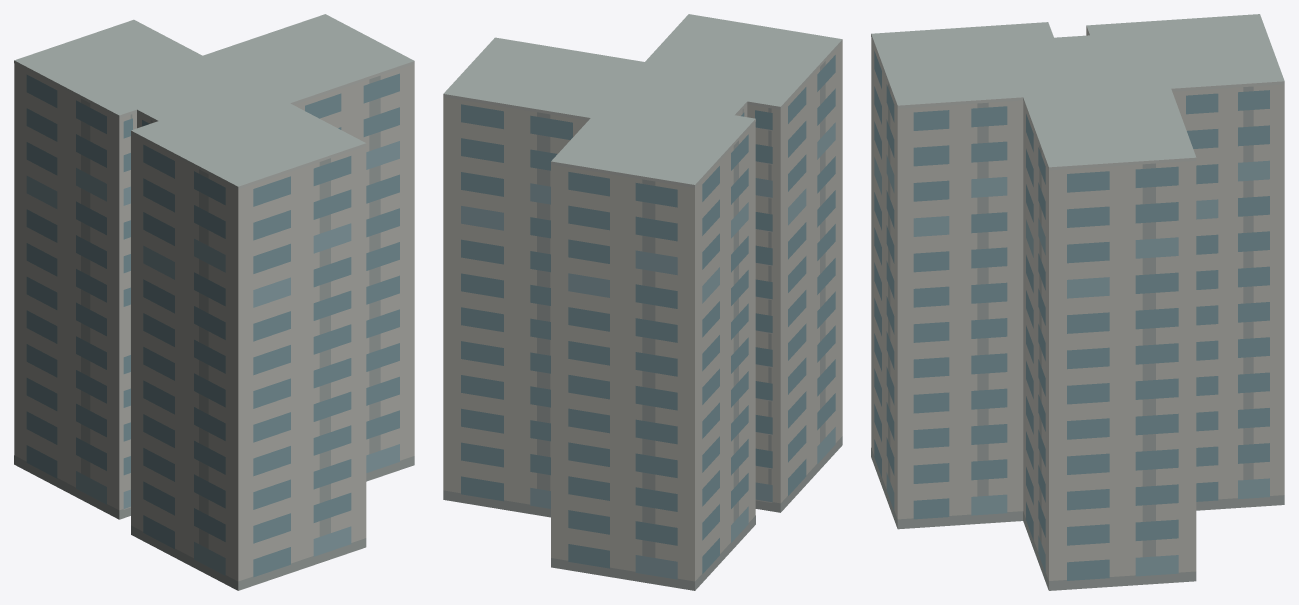
File: residential-e397d5ba-95db-4754-90f9-fb601de63754.glb
3 renders of one model, left to right at view 1: azimuth 30°, elevation 25°; view 2: azimuth 150°, elevation 25°; view 3: azimuth 270°, elevation 25°, orthographic. The views are drawn at different scales.
Parts seen in each view (by area): view 1: residential-e397d5ba-95db-4754-90f9-fb601de63754.tmp; view 2: residential-e397d5ba-95db-4754-90f9-fb601de63754.tmp; view 3: residential-e397d5ba-95db-4754-90f9-fb601de63754.tmp.
Part boxes in pixels (x1,y1,x2,y2): residential-e397d5ba-95db-4754-90f9-fb601de63754.tmp: (14,14,414,590); residential-e397d5ba-95db-4754-90f9-fb601de63754.tmp: (443,14,842,590); residential-e397d5ba-95db-4754-90f9-fb601de63754.tmp: (871,14,1284,590).
Size of the model in its own units: 25.63 by 33 by 29.21.
